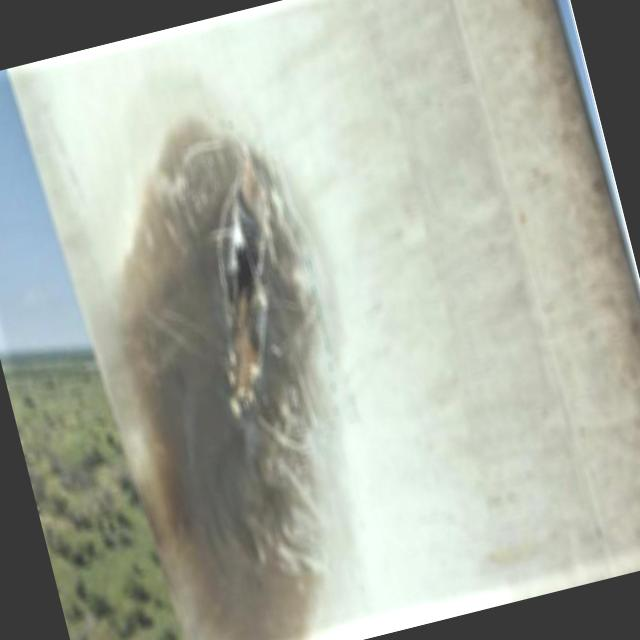crack: (64, 93, 399, 640)
